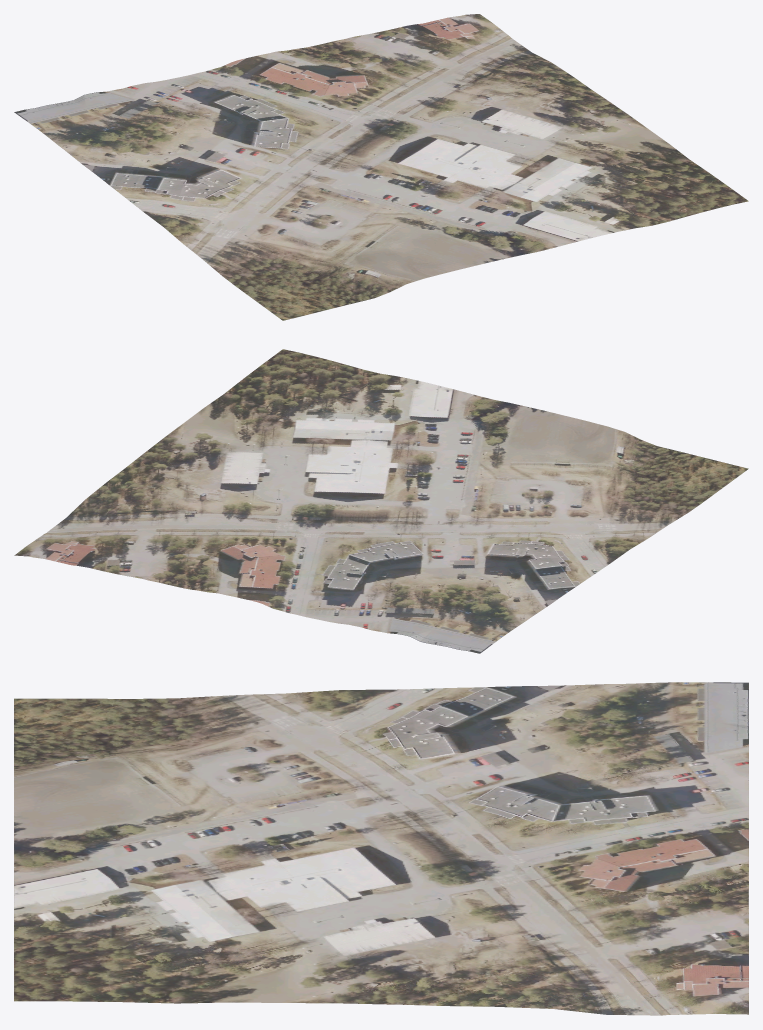
Rendered from CM_Terrain_24491278_6817132.fbx.
3 renders of one model, top to bottom at view 1: azimuth 30°, elevation 25°; view 2: azimuth 150°, elevation 25°; view 3: azimuth 270°, elevation 25°, orthographic. The views are drawn at different scales.
Parts seen in each view (by area): view 1: CM_Terrain_24491278_6817132_LOD0; view 2: CM_Terrain_24491278_6817132_LOD0; view 3: CM_Terrain_24491278_6817132_LOD0.
Boxes of the visible parts, bbox=[...] form: CM_Terrain_24491278_6817132_LOD0: bbox=[14, 14, 748, 320]; CM_Terrain_24491278_6817132_LOD0: bbox=[14, 349, 748, 653]; CM_Terrain_24491278_6817132_LOD0: bbox=[14, 682, 748, 1015].
Size of what is drawn, in the model's own units: 205 by 7.06 by 205.
